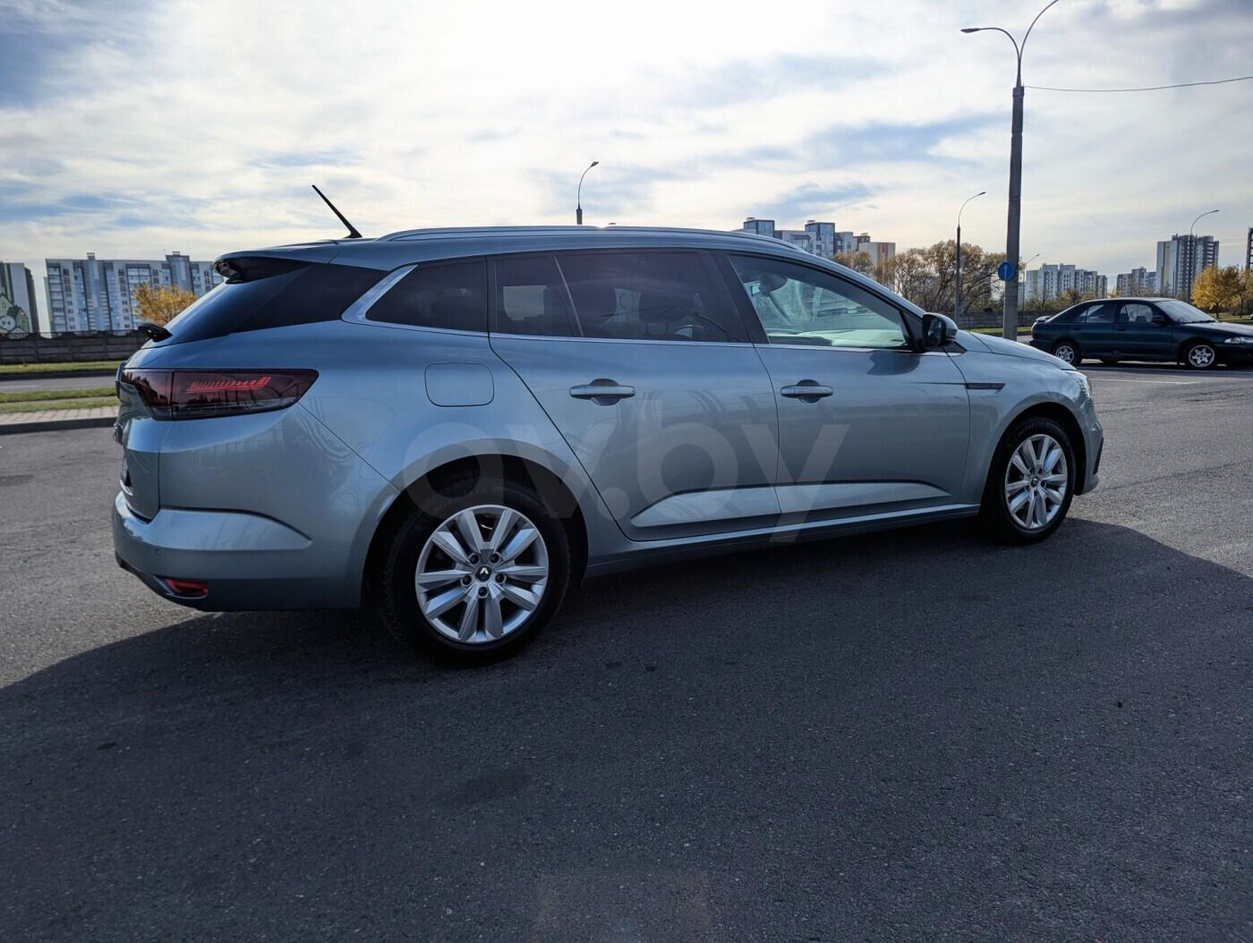Megane_2020: (97, 225, 1093, 666)
